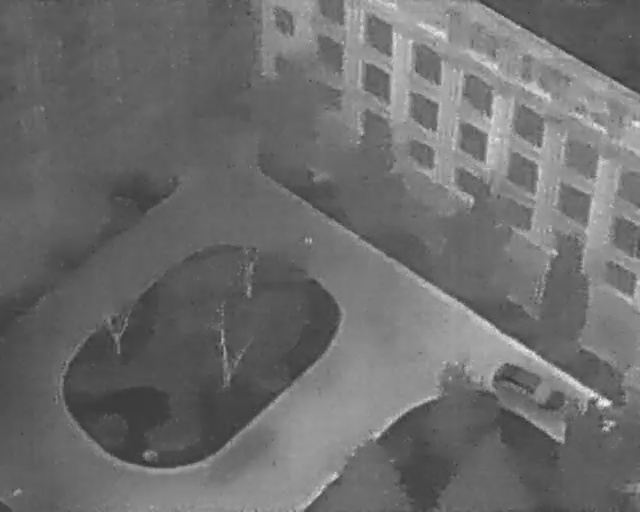Car: (483, 347, 580, 427)
